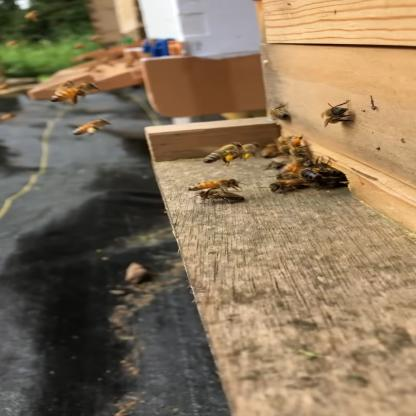bee: (264, 135, 376, 197), (63, 112, 145, 148), (37, 78, 108, 110), (183, 173, 249, 207), (192, 134, 262, 164), (264, 89, 309, 132), (320, 95, 366, 130)
